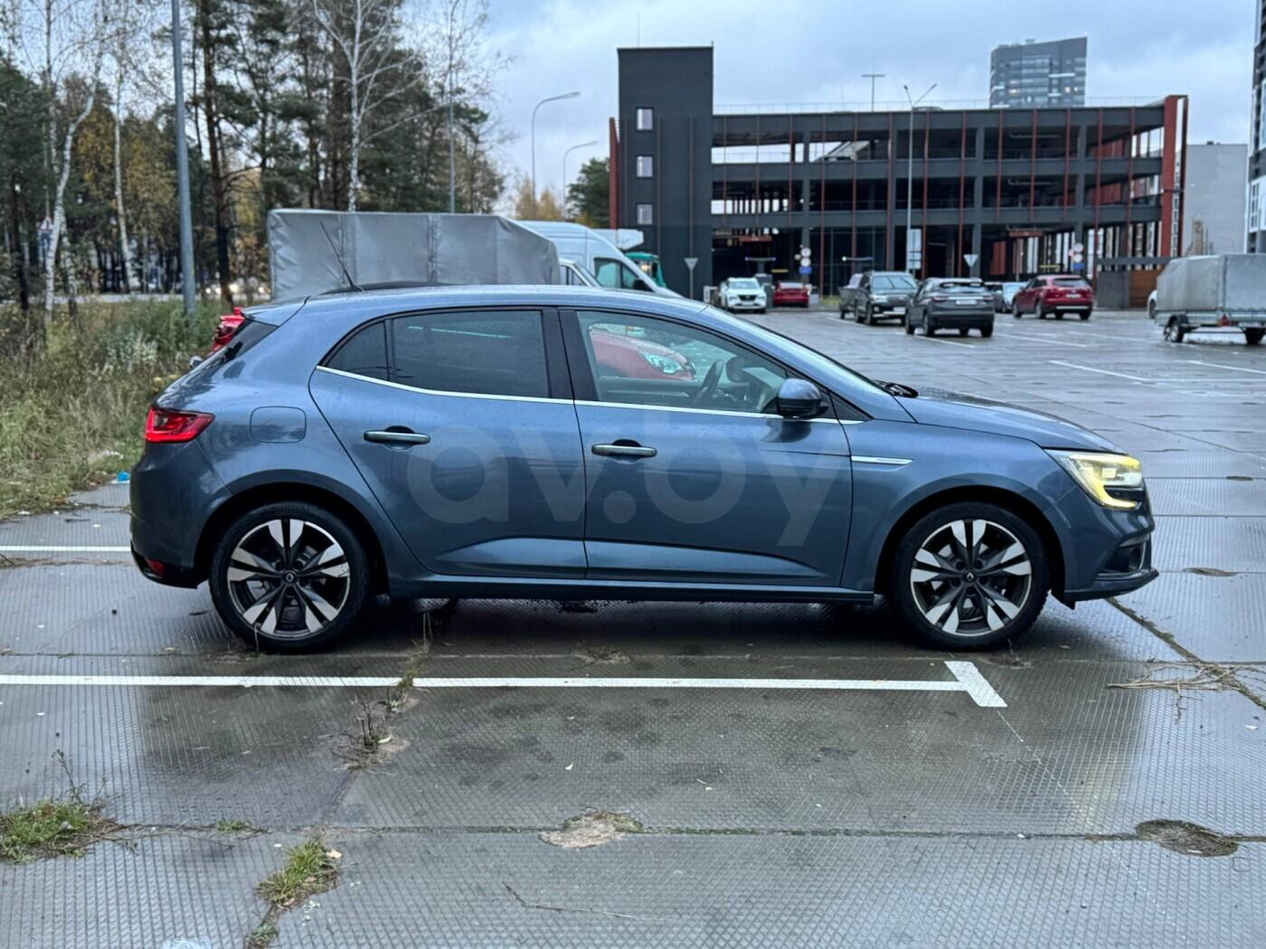Megane_2016-2020: (124, 279, 1151, 642)
